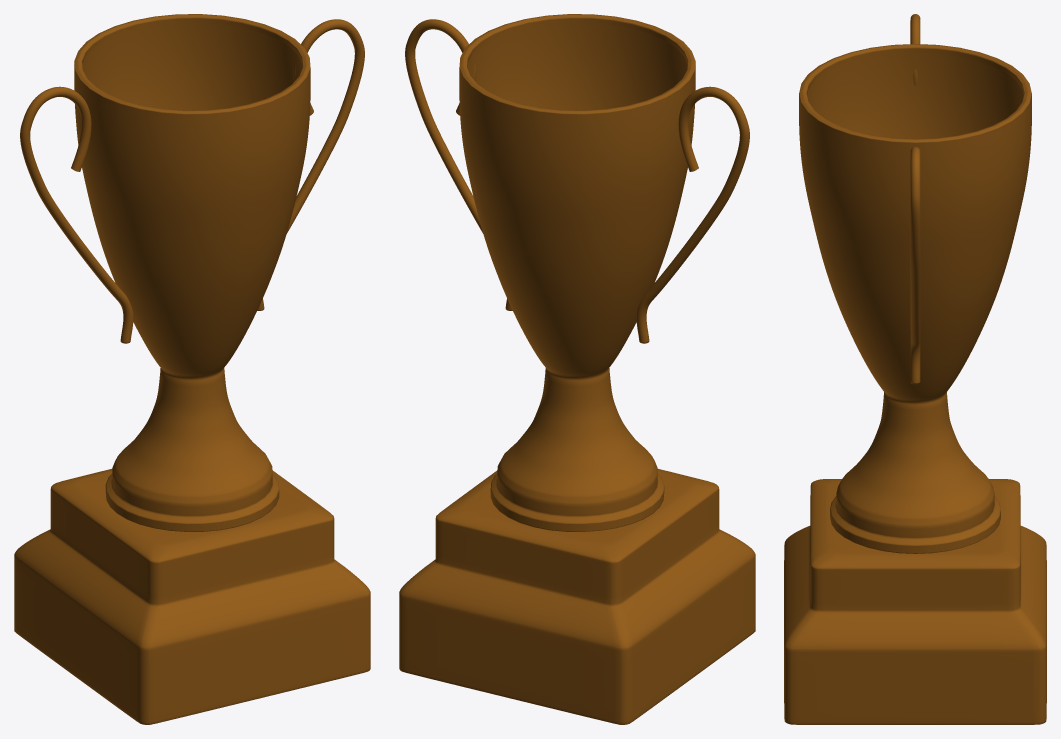
3 views of the same model, side by side, from view 1: azimuth 30°, elevation 25°; view 2: azimuth 150°, elevation 25°; view 3: azimuth 270°, elevation 25° (orthographic).
Visible parts, largest first — view 1: BezierCurve.001; view 2: BezierCurve.001; view 3: BezierCurve.001.
Part boxes in pixels (x1=…): BezierCurve.001: x1=14, y1=14, x2=370, y2=724; BezierCurve.001: x1=399, y1=14, x2=755, y2=724; BezierCurve.001: x1=784, y1=14, x2=1046, y2=724.
Bounding box in the file's own units: 262 × 433 × 176.
